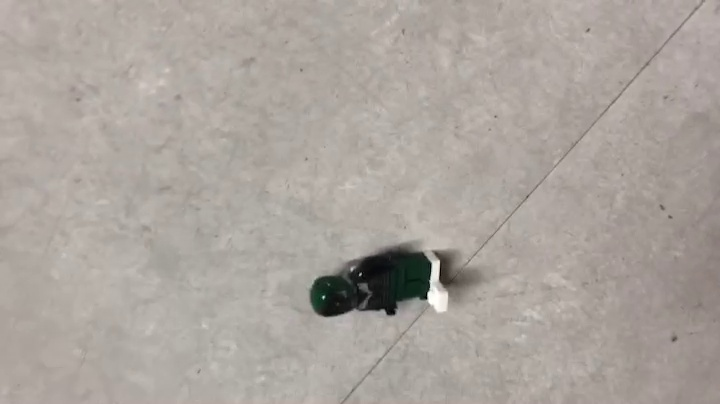people: (308, 245, 451, 320)
